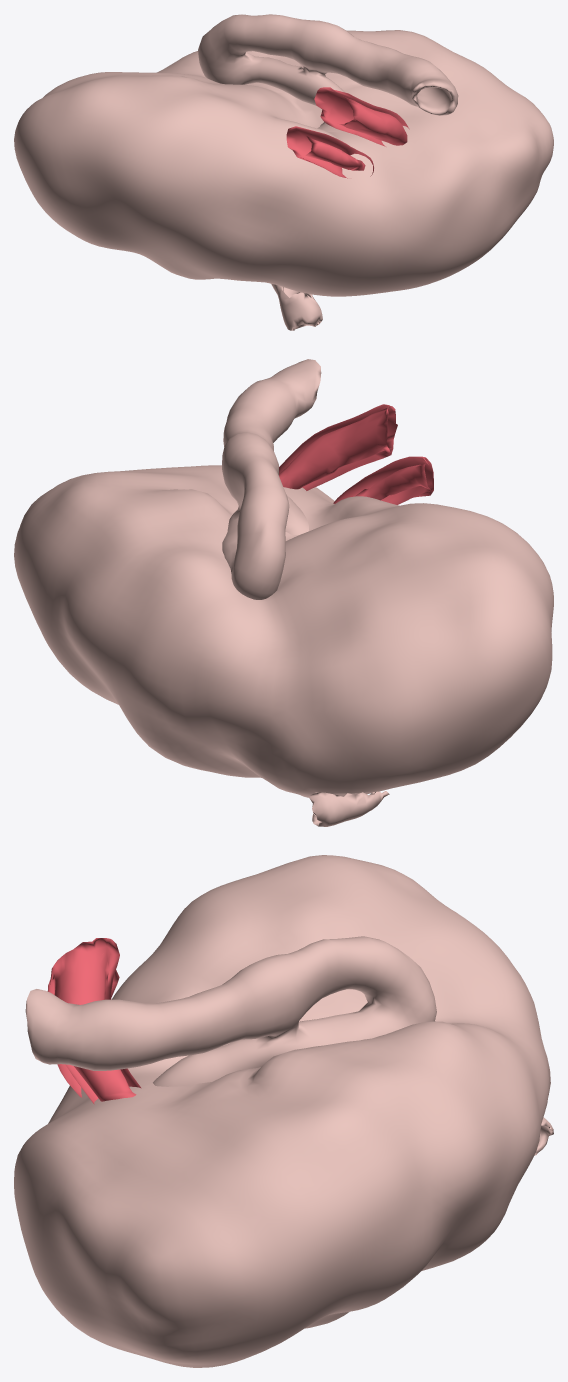
The model's file is nih_m_lymph_node-100.glb.
The picture shows the model from 3 angles, top to bottom: view 1: azimuth 30°, elevation 25°; view 2: azimuth 150°, elevation 25°; view 3: azimuth 270°, elevation 25°; orthographic projection. The views are drawn at different scales.
Parts seen in each view (by area): view 1: Yao_capsule_of_lymph_node, Yao_efferent_lymph_node, Yao_blood_vasculature, Yao_afferent_lymphatic_vessel; view 2: Yao_capsule_of_lymph_node, Yao_efferent_lymph_node, Yao_blood_vasculature, Yao_afferent_lymphatic_vessel; view 3: Yao_capsule_of_lymph_node, Yao_efferent_lymph_node, Yao_blood_vasculature.
Part boxes in pixels (<box>): Yao_capsule_of_lymph_node: <box>14,30,553,296</box>; Yao_efferent_lymph_node: <box>198,14,458,132</box>; Yao_blood_vasculature: <box>286,87,409,178</box>; Yao_afferent_lymphatic_vessel: <box>271,284,322,330</box>; Yao_capsule_of_lymph_node: <box>14,465,553,797</box>; Yao_efferent_lymph_node: <box>222,359,321,599</box>; Yao_blood_vasculature: <box>279,404,433,504</box>; Yao_afferent_lymphatic_vessel: <box>309,791,389,826</box>; Yao_capsule_of_lymph_node: <box>14,855,550,1367</box>; Yao_efferent_lymph_node: <box>25,936,436,1086</box>; Yao_blood_vasculature: <box>47,938,141,1104</box>.
Bounding box in the file's own units: 0.0183 × 0.0106 × 0.013.
